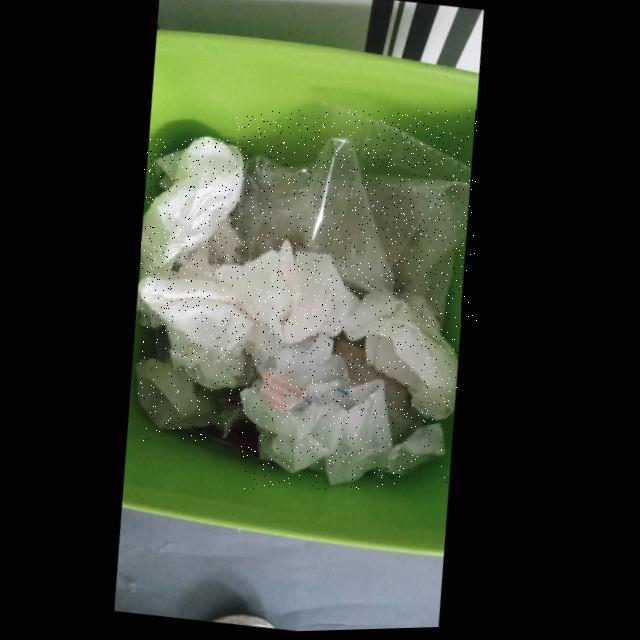paper: (141, 242, 363, 395), (242, 336, 395, 489), (345, 292, 461, 423), (145, 139, 251, 281), (137, 359, 247, 441), (368, 425, 448, 484)
plastic: (236, 110, 477, 323)
